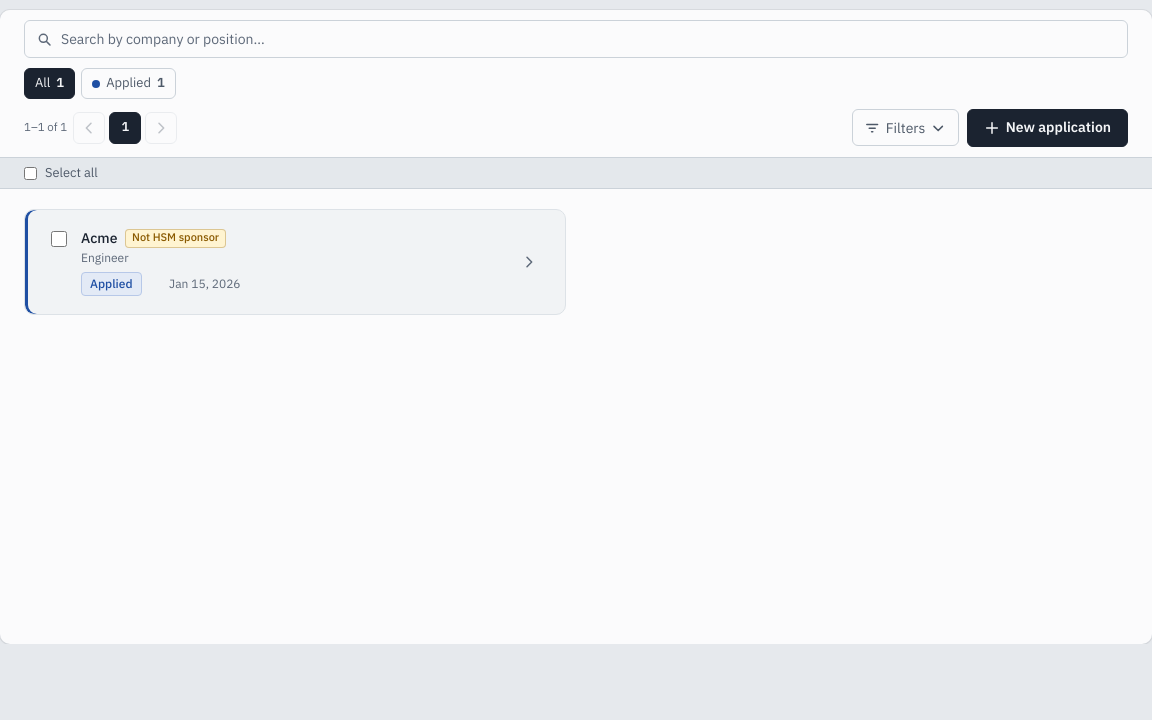
Scenario: ApplicationsView – row accessibility › ticking the checkbox selects the row without opening it
Click the checkbox with class "row-checkbox": [59, 239] box [51,231,67,247]
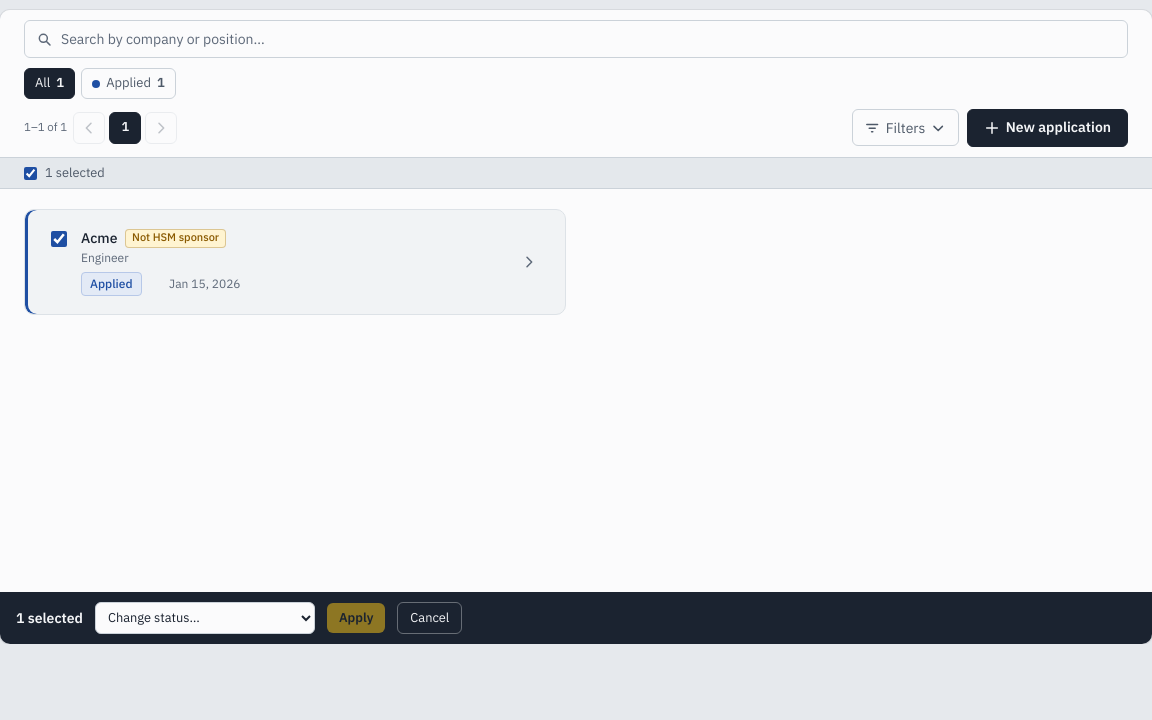
Expected: the text with class "bulk-count" reads "1 selected", [16,609,83,627]
